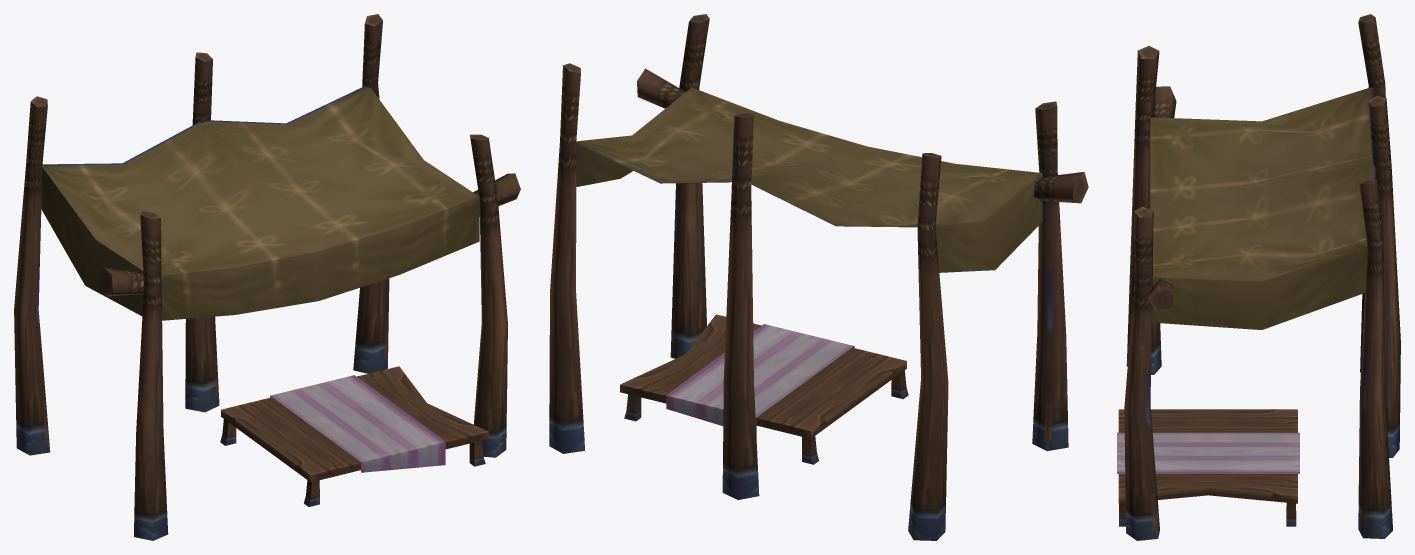
File: building_city_tanpu02.FBX
3 views of the same model, side by side, from view 1: azimuth 30°, elevation 25°; view 2: azimuth 150°, elevation 25°; view 3: azimuth 270°, elevation 25° (orthographic). The views are drawn at different scales.
Parts seen in each view (by area): view 1: building_city_tanpu02; view 2: building_city_tanpu02; view 3: building_city_tanpu02.
Boxes of the visible parts, <box> form: building_city_tanpu02: <box>14,14,520,540</box>; building_city_tanpu02: <box>549,14,1088,540</box>; building_city_tanpu02: <box>1117,14,1400,540</box>.
Size of the model in its own units: 3.58 by 2.15 by 2.95.
